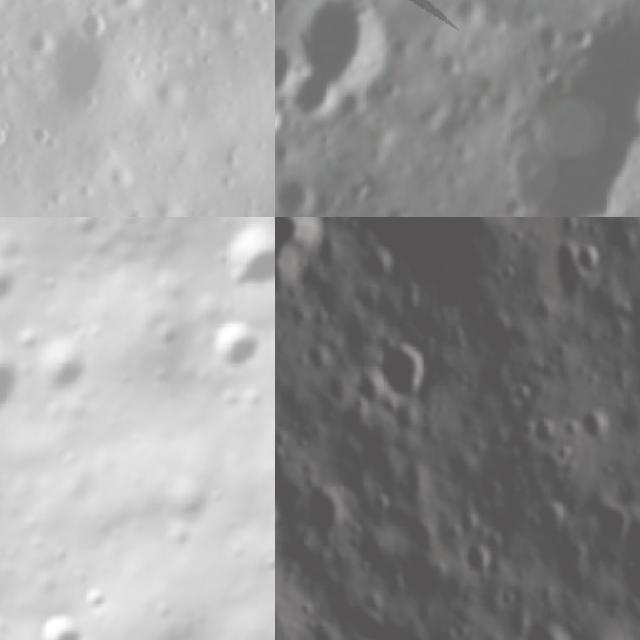crater: (21, 22, 135, 136), (295, 0, 394, 88), (204, 217, 275, 308), (275, 217, 336, 322), (29, 331, 101, 402), (372, 331, 441, 403), (298, 474, 363, 548), (0, 319, 30, 436), (201, 315, 260, 373), (285, 71, 342, 123), (586, 493, 636, 551), (82, 0, 159, 32), (275, 166, 323, 217), (27, 606, 88, 640), (570, 231, 612, 279), (348, 602, 399, 640), (577, 400, 618, 446), (331, 83, 371, 125), (456, 543, 496, 585), (0, 251, 27, 312), (275, 37, 302, 94), (522, 612, 575, 640), (149, 312, 187, 350), (531, 18, 568, 56), (430, 45, 468, 82), (529, 494, 567, 531), (522, 412, 560, 449), (564, 620, 630, 640), (511, 147, 543, 187), (526, 53, 562, 86), (450, 0, 488, 31), (77, 581, 110, 614), (498, 192, 531, 217), (569, 23, 595, 54), (46, 542, 72, 565), (275, 97, 289, 138), (378, 202, 414, 217)
